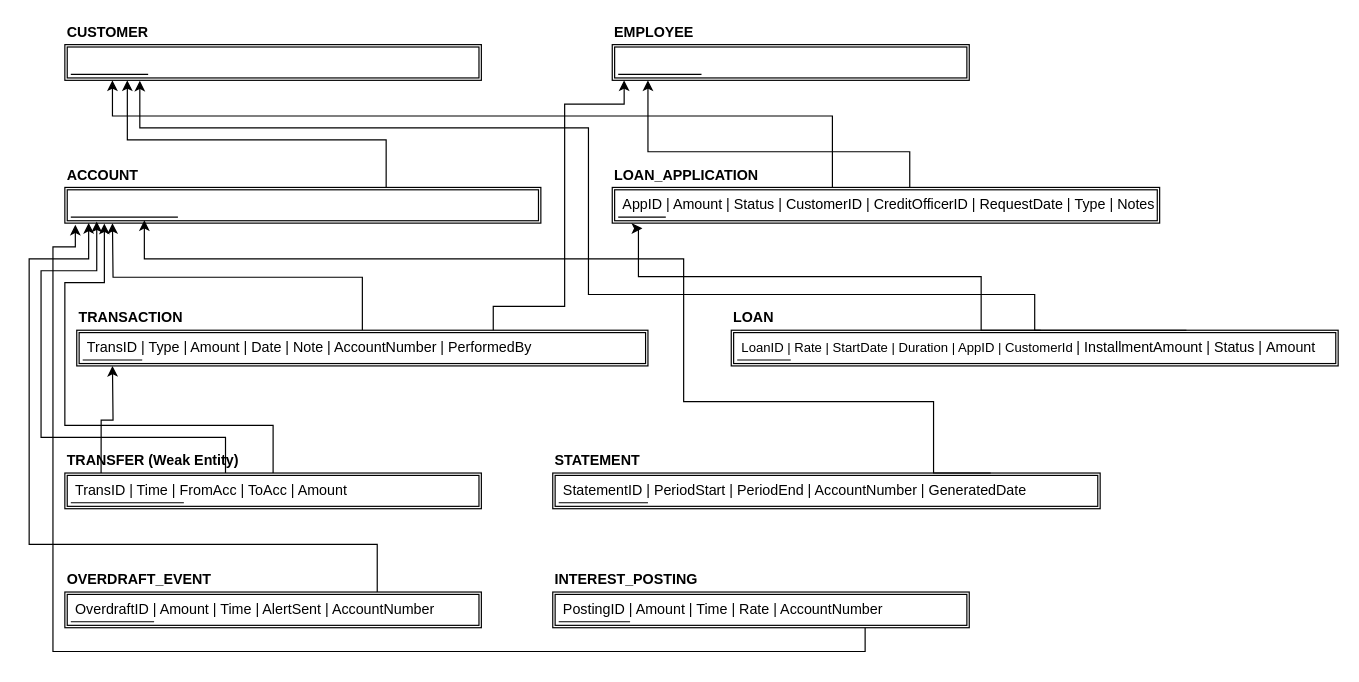
The diagram is 1359 pixels wide and 682 high, and some of its shapes have lost their labels. Each missing label, with the centre of its shape:
"AccountNumber | Balance | Type | Status | CustomerID| dateOpened| Currency" goes at [302,204].
"CustomerID | NationalID | Name | Address | Tier| Email| ph.no." goes at [272,61].
"EmployeeID | FullName | Role | BranchID | Email" goes at [790,61].
